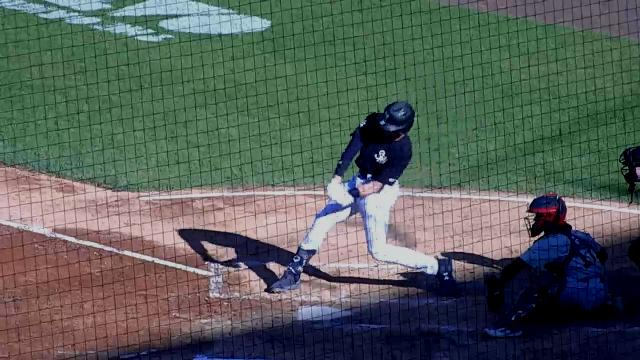bat: (348, 201, 419, 251)
